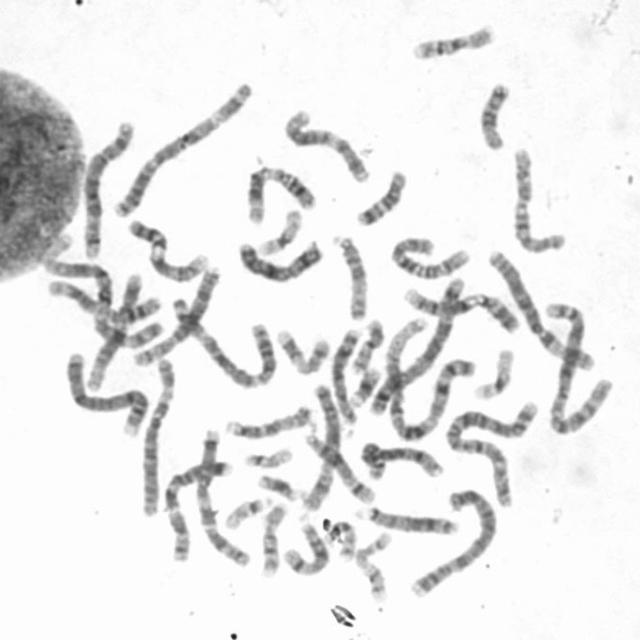A1: (34, 227, 165, 349), (374, 311, 477, 440)
A2: (440, 394, 542, 509), (539, 294, 616, 436)
A3: (106, 73, 256, 219), (165, 290, 279, 389)
B4: (402, 481, 500, 600), (58, 344, 150, 438)
B5: (363, 271, 468, 418), (74, 112, 137, 259)
C10: (504, 140, 568, 254), (384, 228, 474, 281)
C11: (42, 273, 163, 325), (239, 157, 318, 225)
C12: (78, 265, 145, 392), (276, 100, 372, 184)
C6: (481, 241, 598, 374), (134, 351, 179, 518)
C7: (188, 422, 253, 569), (158, 451, 235, 565)
C8: (126, 260, 224, 368), (353, 436, 444, 482)
C9: (394, 280, 523, 335), (121, 212, 212, 283)
D13: (350, 499, 460, 537), (326, 322, 363, 428)
D14: (298, 426, 378, 504), (276, 511, 332, 577)
D15: (326, 226, 370, 322), (219, 399, 315, 440)
E16: (404, 15, 498, 60), (254, 496, 289, 578)
E17: (348, 526, 393, 604), (270, 321, 330, 377)
E18: (349, 163, 409, 227), (472, 75, 512, 151)
F19: (250, 202, 305, 257), (468, 342, 517, 402)
F20: (346, 312, 386, 376), (318, 514, 358, 562)
G21: (344, 359, 384, 409), (252, 467, 305, 503)
G22: (218, 489, 275, 531), (238, 440, 294, 470)
X: (295, 376, 342, 513), (231, 232, 326, 286)
